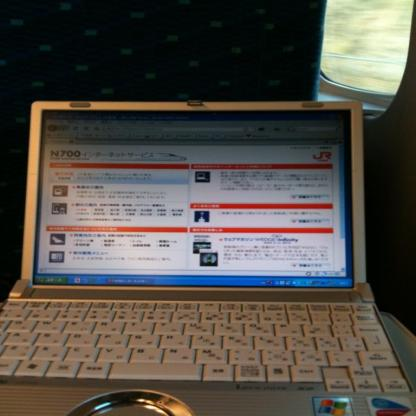board: (0, 98, 414, 416)
